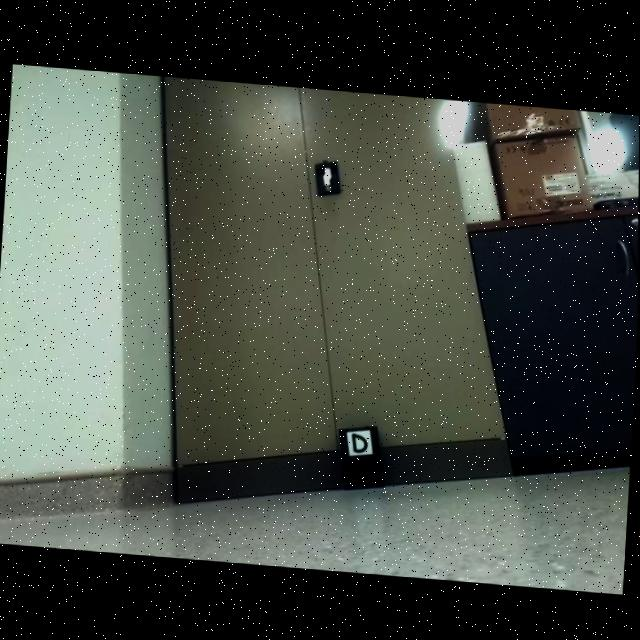D: (351, 430, 370, 452)
